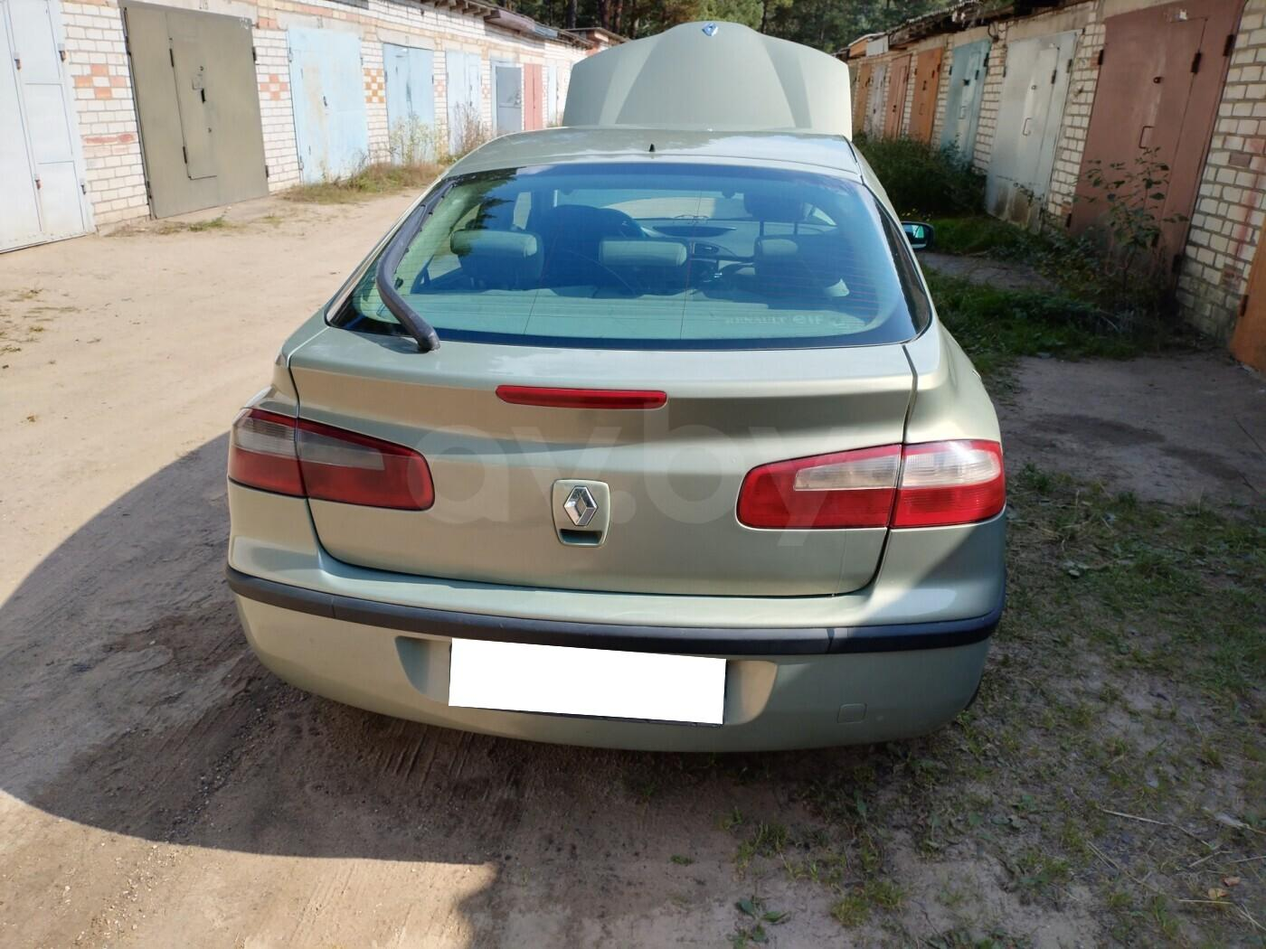Laguna_2001-2005: (228, 23, 1006, 749)
